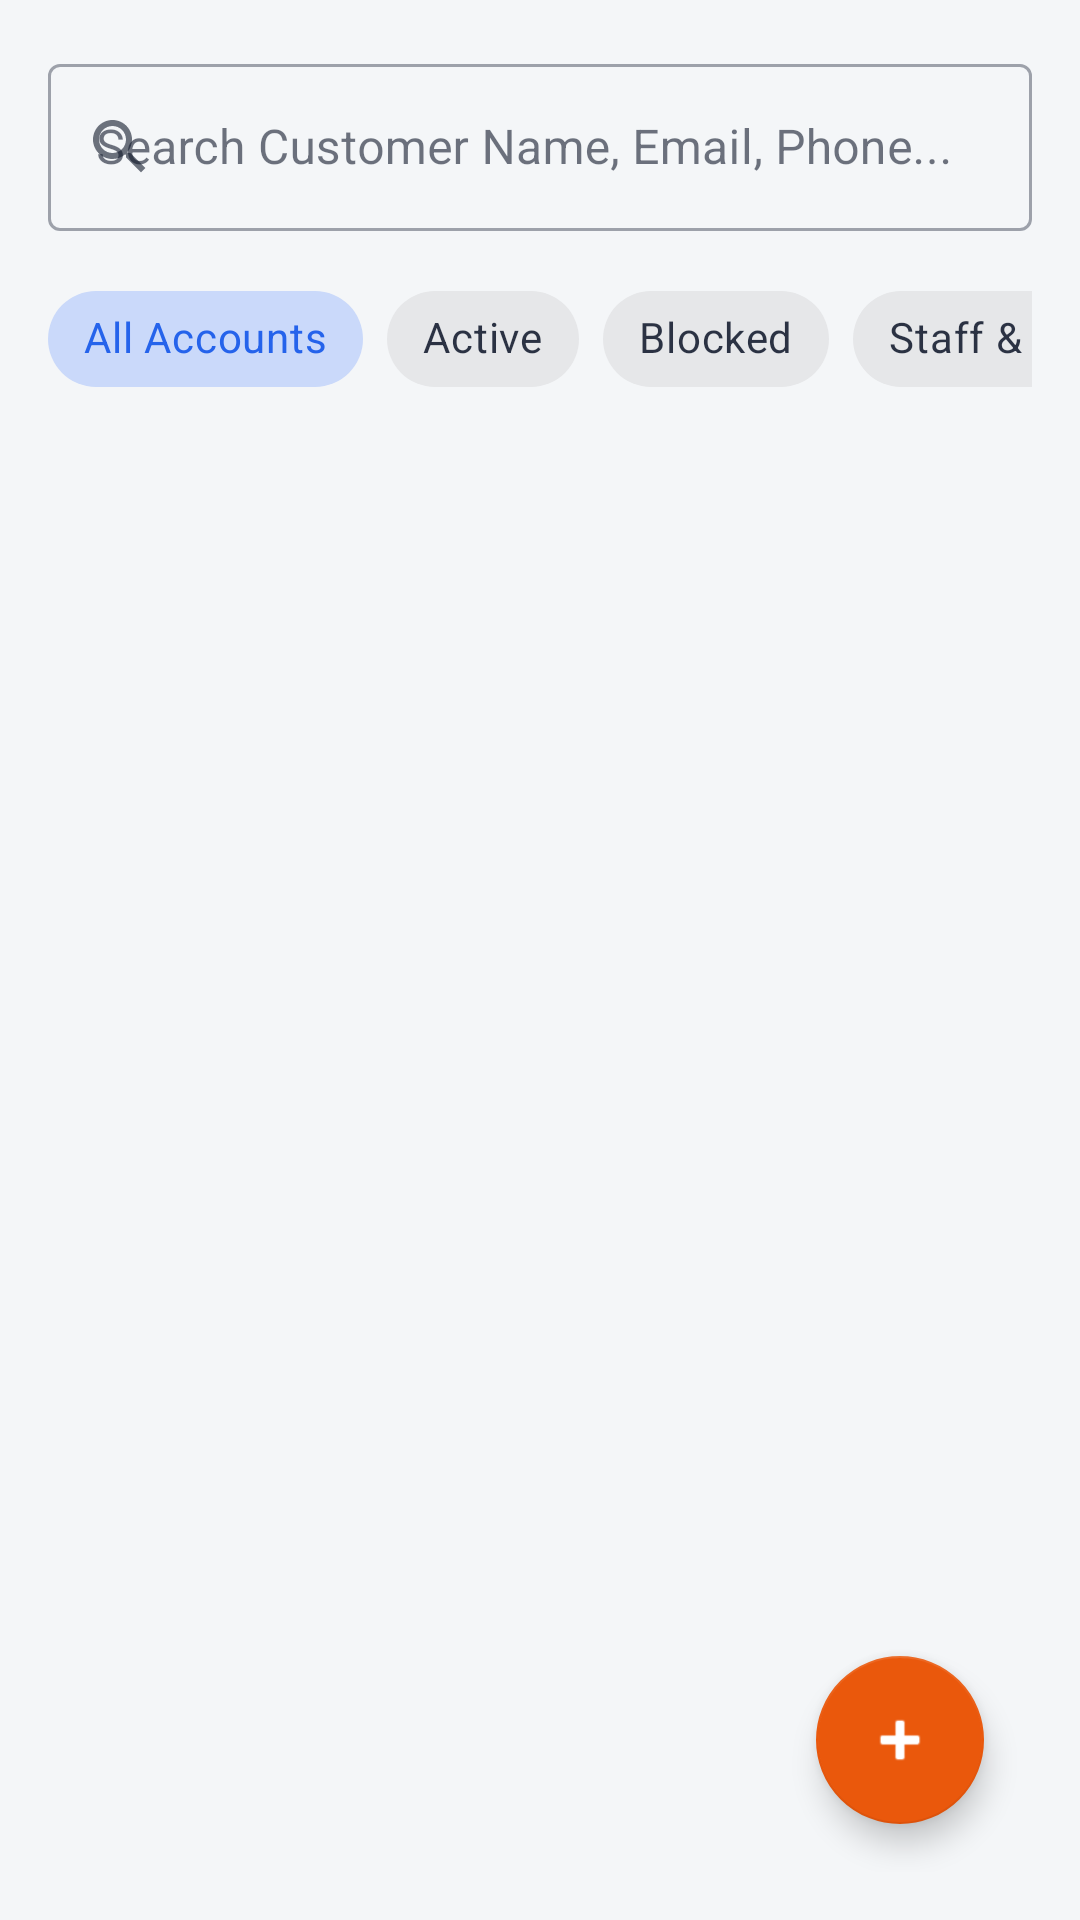

Named icons in this screenshot (1080px×1920px) and their bounding boxes, (left=x1, top=y1, right=x2, bottom=y2):
Add Staff Member: (left=816, top=1656, right=984, bottom=1824)
